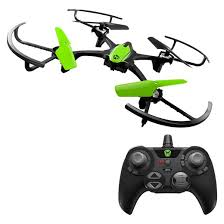Drone: (5, 4, 222, 139)
